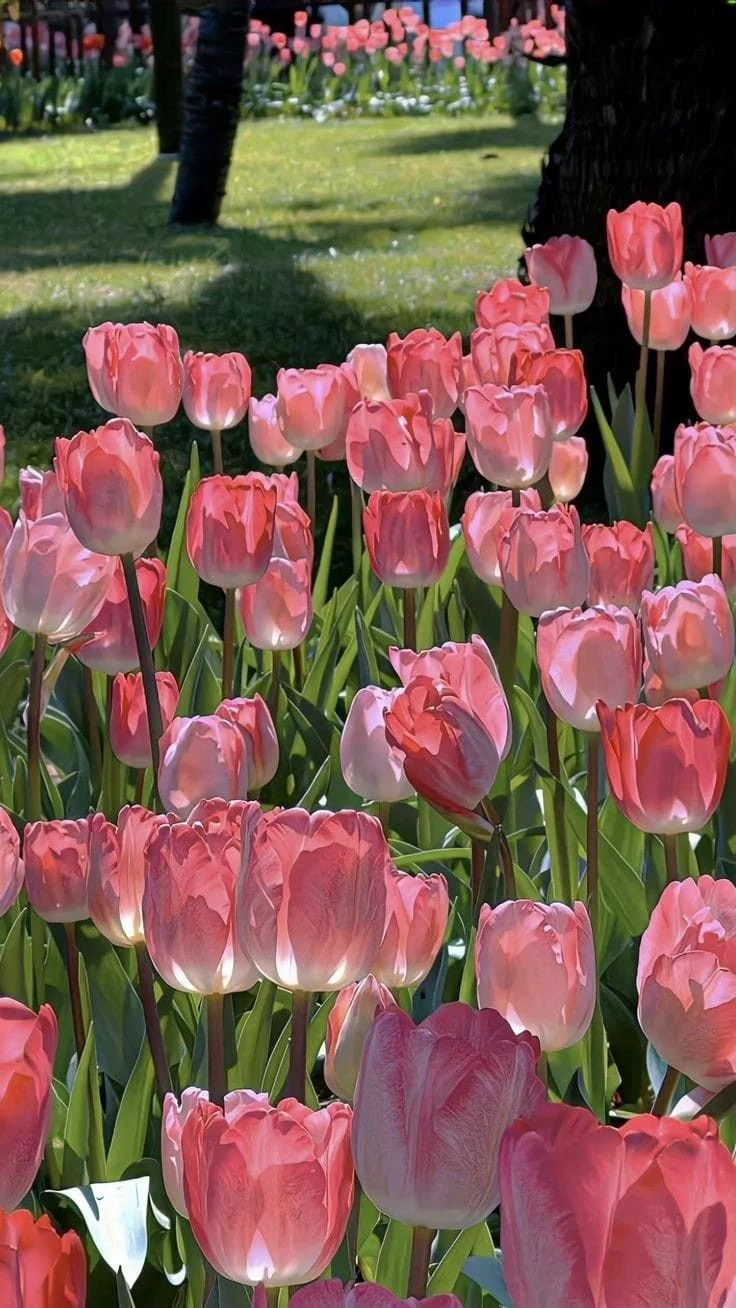tulip: (338, 995, 553, 1234), (494, 1098, 736, 1304), (170, 1084, 362, 1298), (232, 803, 403, 997), (140, 797, 265, 998), (628, 868, 735, 1098), (590, 696, 735, 834), (472, 894, 597, 1049), (383, 673, 500, 821), (2, 505, 118, 647), (388, 630, 514, 760), (51, 415, 165, 558), (0, 985, 69, 1211), (533, 601, 641, 734), (73, 554, 174, 678), (79, 316, 187, 430), (151, 711, 251, 831), (636, 571, 734, 692), (494, 501, 587, 628), (82, 802, 162, 948), (456, 379, 558, 492), (181, 471, 277, 590), (367, 867, 455, 996), (321, 972, 399, 1104), (335, 683, 417, 805), (343, 394, 442, 495), (357, 486, 451, 592), (0, 1207, 98, 1306), (456, 488, 544, 591), (600, 200, 690, 292), (21, 813, 91, 931), (579, 518, 655, 623), (236, 553, 316, 652), (383, 325, 462, 424), (671, 418, 735, 538), (107, 668, 180, 773), (519, 229, 602, 319), (174, 344, 254, 435), (214, 690, 283, 794), (271, 363, 343, 462), (620, 268, 691, 352), (466, 321, 555, 385), (535, 344, 591, 442), (243, 392, 309, 471), (267, 469, 316, 569), (472, 273, 552, 331), (679, 259, 735, 341), (685, 337, 735, 425), (677, 521, 735, 593), (338, 339, 395, 411), (649, 452, 693, 541), (547, 435, 591, 505), (699, 228, 735, 268)
